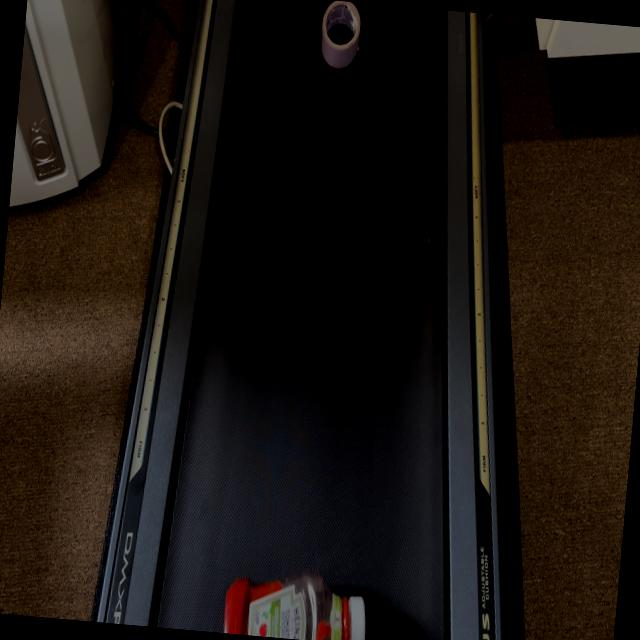Trash: (223, 560, 372, 640), (316, 1, 362, 70)
